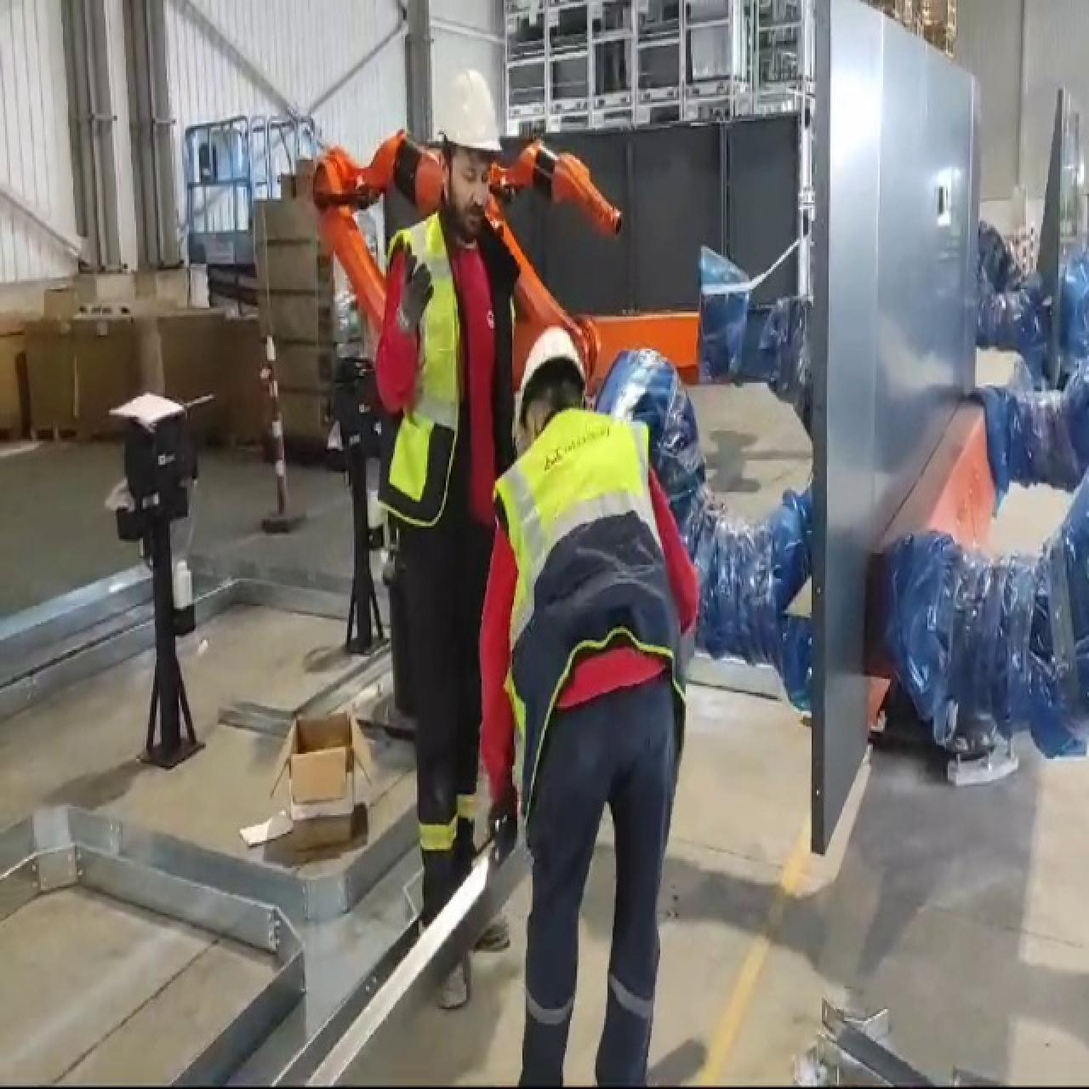Person: (475, 309, 698, 1089), (376, 32, 548, 1014)
Safety_Vest: (484, 403, 693, 808), (393, 226, 524, 528)
